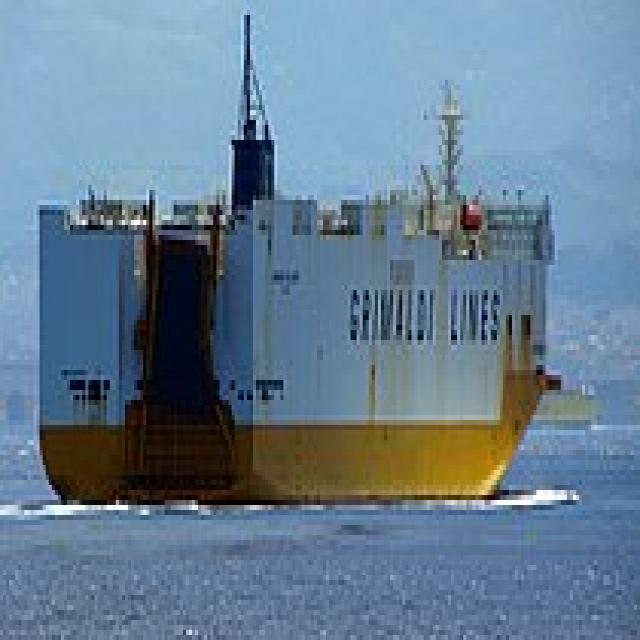Carrier: (30, 5, 564, 510)
